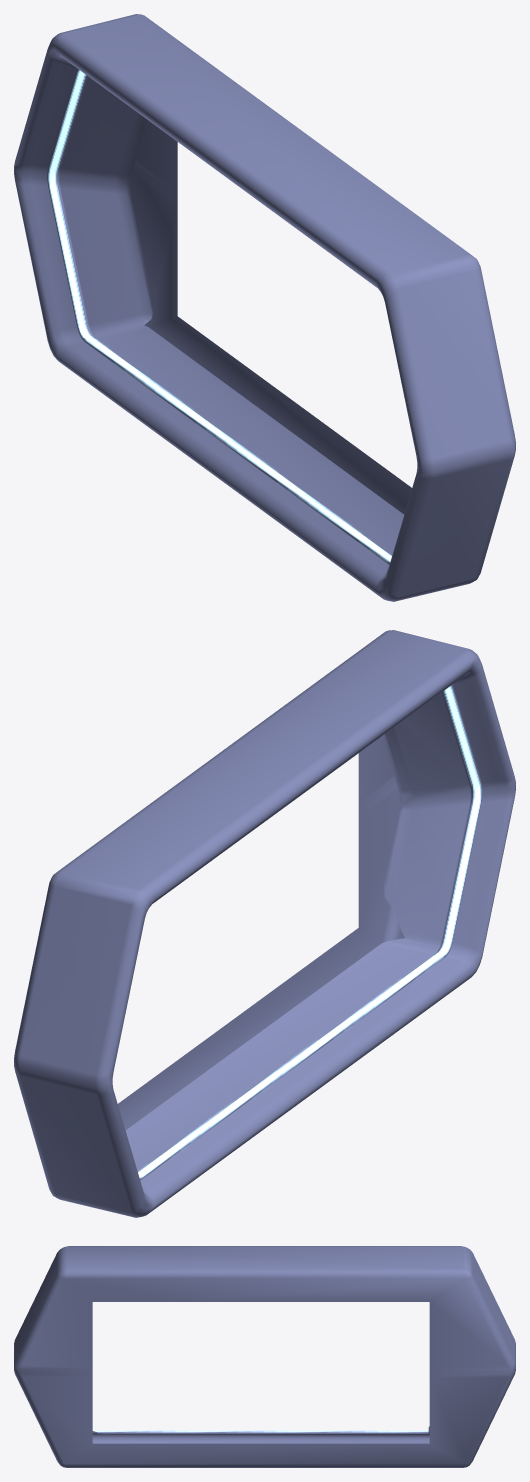
The model's file is space-window.glb.
The picture shows the model from 3 angles, top to bottom: view 1: azimuth 30°, elevation 25°; view 2: azimuth 150°, elevation 25°; view 3: azimuth 270°, elevation 25°; orthographic projection. The views are drawn at different scales.
Parts seen in each view (by area): view 1: SM_large_window; view 2: SM_large_window; view 3: SM_large_window.
Boxes of the visible parts, x1,y1,x2,y2 form: SM_large_window: (14, 14, 515, 601); SM_large_window: (14, 630, 515, 1217); SM_large_window: (14, 1246, 515, 1467).
Size of the model in its own units: 0.527 by 1.7 by 3.9.
